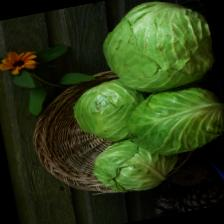cabbage: (94, 0, 219, 99), (119, 78, 224, 162), (68, 71, 162, 149), (87, 130, 184, 200)
